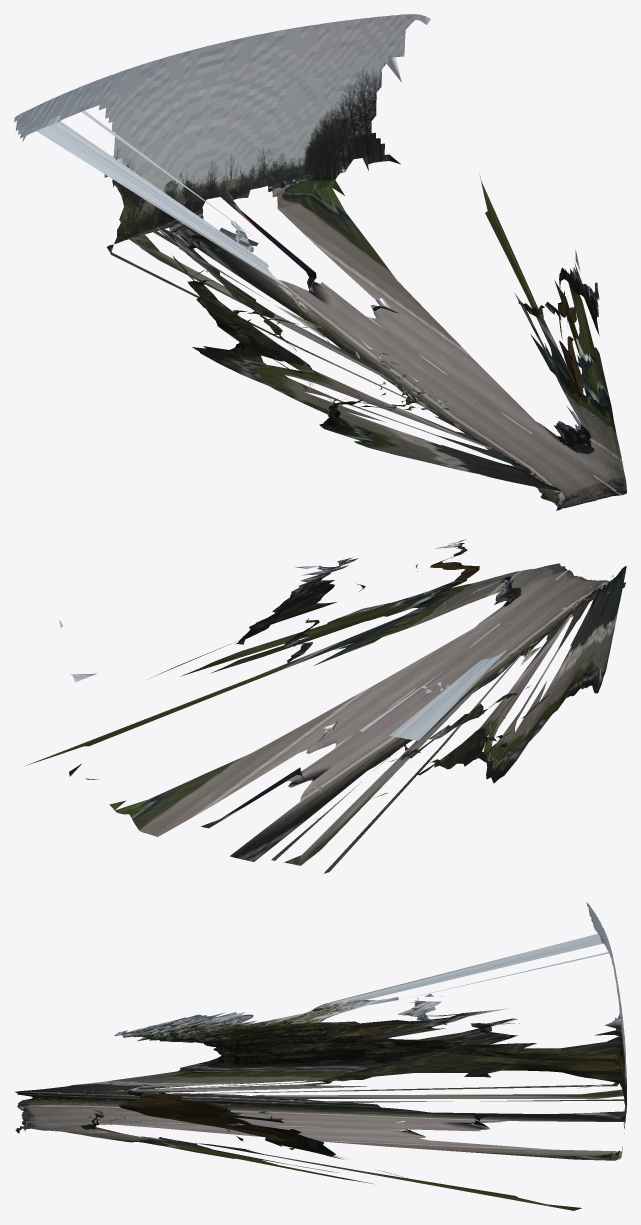
3 renders of one model, top to bottom at view 1: azimuth 30°, elevation 25°; view 2: azimuth 150°, elevation 25°; view 3: azimuth 270°, elevation 25°, orthographic. The views are drawn at different scales.
Visible parts, largest first — view 1: defaultobject; view 2: defaultobject; view 3: defaultobject.
Boxes of the visible parts, x1,y1,x2,y2 form: defaultobject: (14, 14, 626, 510); defaultobject: (25, 539, 626, 873); defaultobject: (15, 902, 626, 1210).
Bounding box in the file's own units: 30.68 × 11.79 × 44.9.
1 material, 1 textured.
